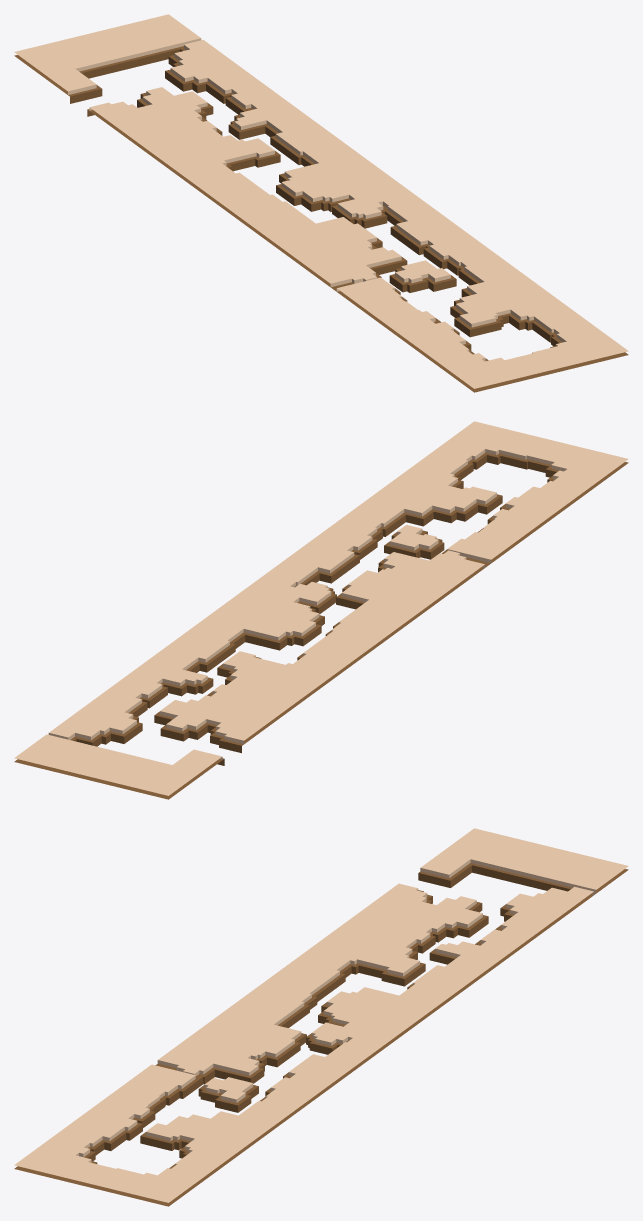
File: SM_Env_Tile_Underwater.fbx
3 views of the same model, one above another, from view 1: azimuth 30°, elevation 25°; view 2: azimuth 150°, elevation 25°; view 3: azimuth 330°, elevation 25° (orthographic).
Visible parts, largest first — view 1: SM_Env_Tile_Underwater; view 2: SM_Env_Tile_Underwater; view 3: SM_Env_Tile_Underwater.
Part boxes in pixels (x1=…): SM_Env_Tile_Underwater: x1=14, y1=14, x2=628, y2=392; SM_Env_Tile_Underwater: x1=14, y1=421, x2=628, y2=799; SM_Env_Tile_Underwater: x1=14, y1=828, x2=628, y2=1206.
Size of the model in its own units: 87.59 by 452 by 6.
